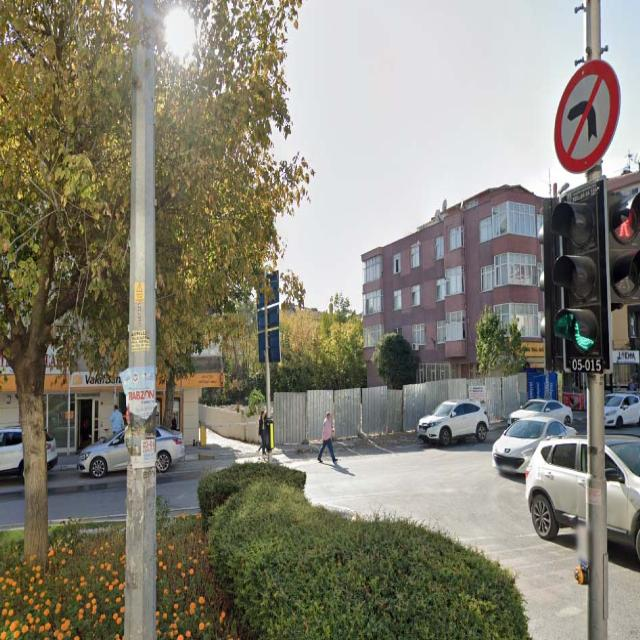soladonulmez: (554, 60, 622, 174)
yesil: (556, 176, 612, 373)
